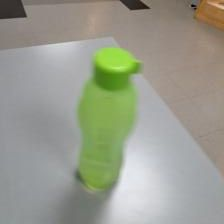bottle: (71, 44, 145, 193)
